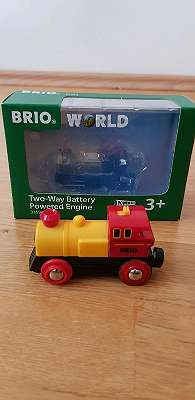brio: (27, 206, 168, 285)
